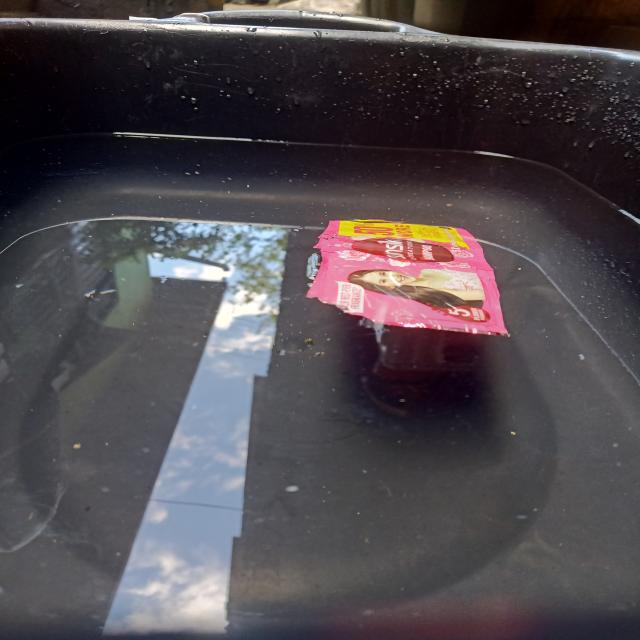Plastic Wrapper: (292, 205, 520, 357)
